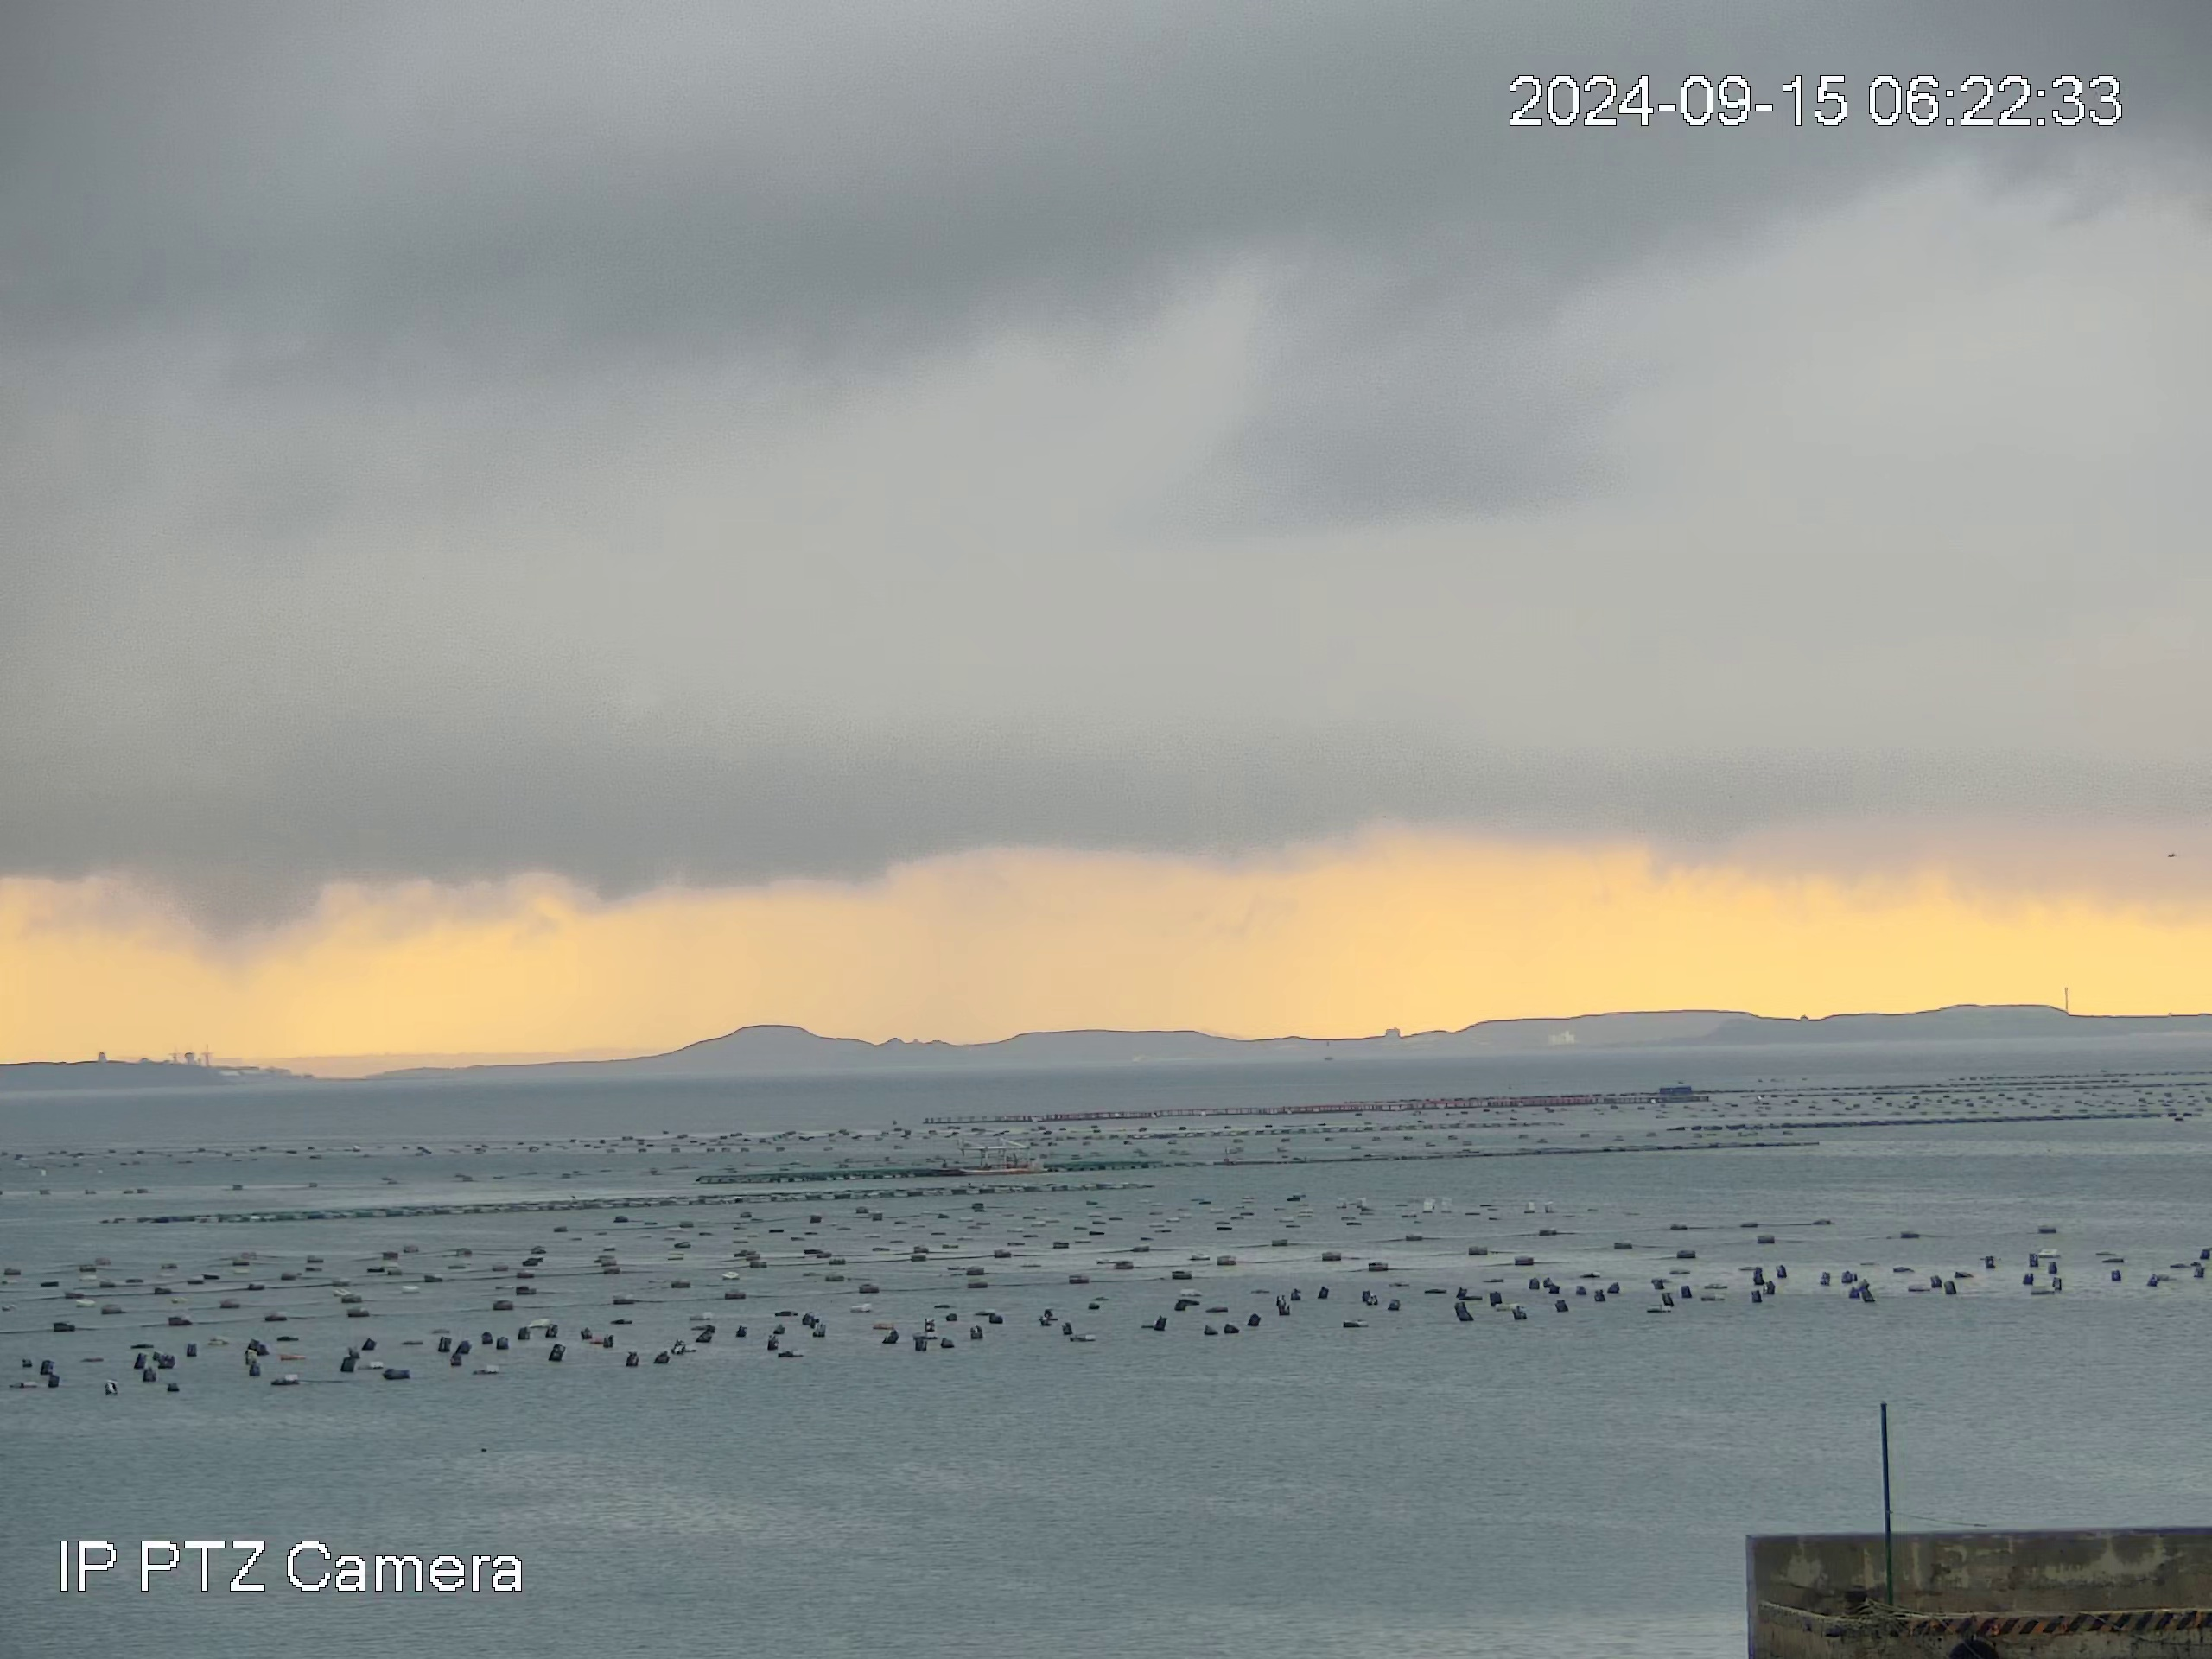boat: (958, 1138, 1050, 1180)
